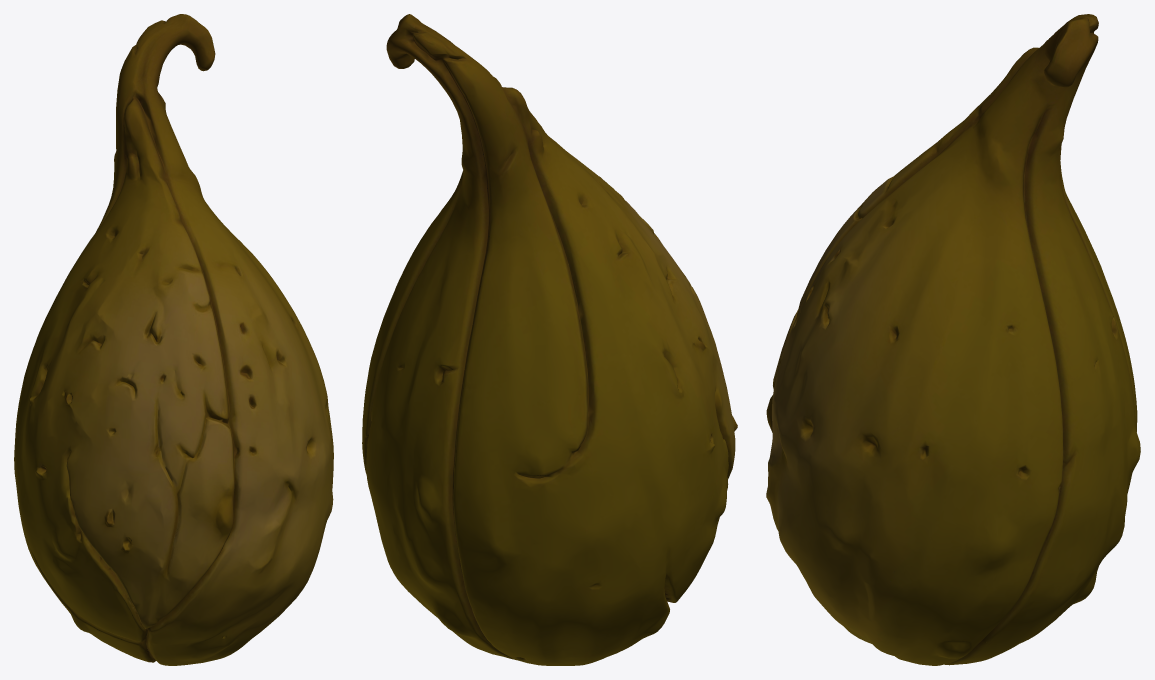
File: fig+fruit+3d+model+1k.glb
3 views of the same model, side by side, from view 1: azimuth 30°, elevation 25°; view 2: azimuth 150°, elevation 25°; view 3: azimuth 270°, elevation 25° (orthographic). The views are drawn at different scales.
Parts seen in each view (by area): view 1: tripo_node_e6c198e4-88cc-4e32-8a35-73135cf6afa4; view 2: tripo_node_e6c198e4-88cc-4e32-8a35-73135cf6afa4; view 3: tripo_node_e6c198e4-88cc-4e32-8a35-73135cf6afa4.
Part boxes in pixels (left/top/right/bottom): tripo_node_e6c198e4-88cc-4e32-8a35-73135cf6afa4: left=14, top=14, right=333, bottom=665; tripo_node_e6c198e4-88cc-4e32-8a35-73135cf6afa4: left=362, top=14, right=737, bottom=665; tripo_node_e6c198e4-88cc-4e32-8a35-73135cf6afa4: left=766, top=14, right=1140, bottom=665.
Size of the model in its own units: 0.5048 by 1 by 0.5065.
1 material, 1 textured.
